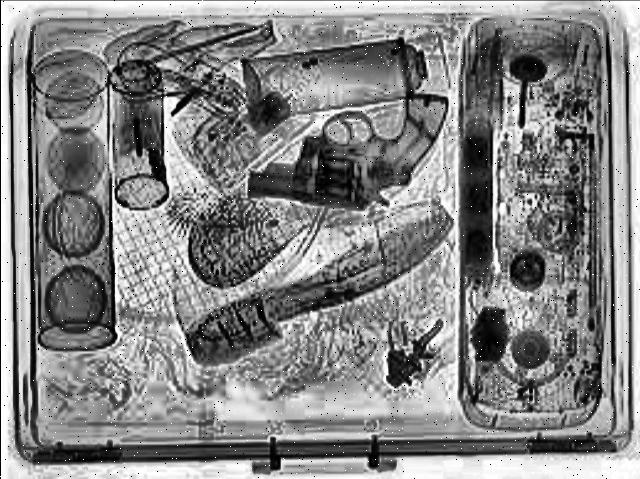Gun: (248, 94, 454, 214)
